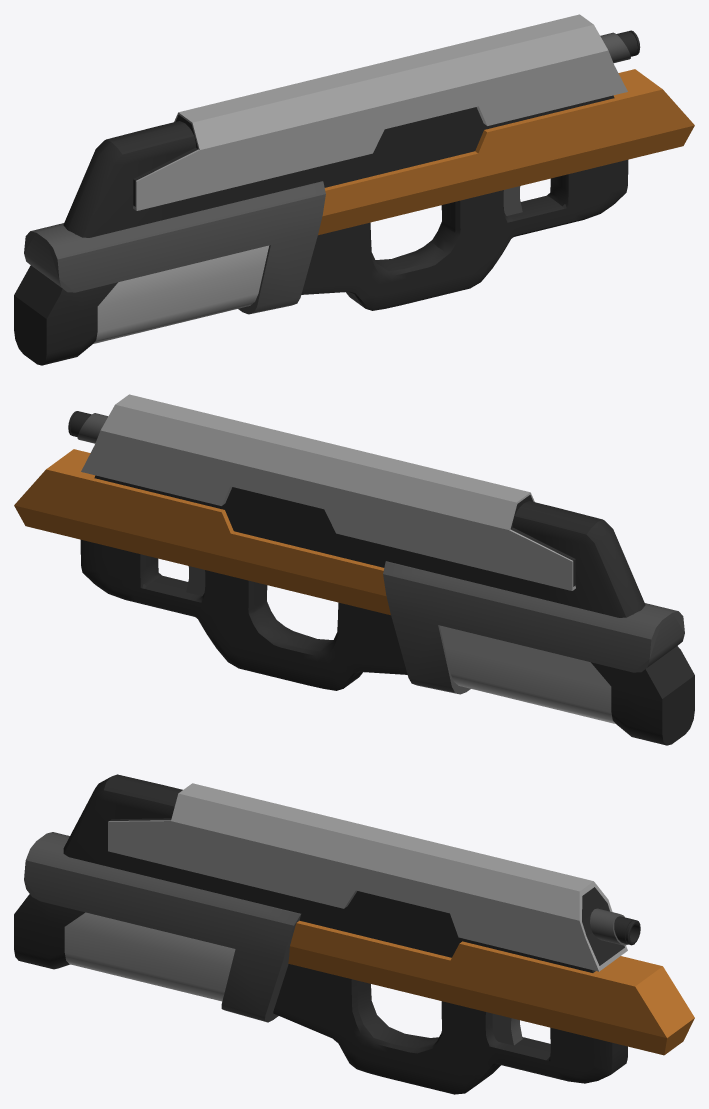
The picture shows the model from 3 angles, top to bottom: view 1: azimuth 30°, elevation 25°; view 2: azimuth 150°, elevation 25°; view 3: azimuth 330°, elevation 25°; orthographic projection.
Visible parts, largest first — view 1: AR_5; view 2: AR_5; view 3: AR_5.
Part boxes in pixels (x1,y1,x2,y2): AR_5: (14, 14, 694, 365); AR_5: (14, 394, 694, 745); AR_5: (14, 774, 694, 1094).
Bounding box in the file's own units: 1.57 × 0.5377 × 0.1478.
